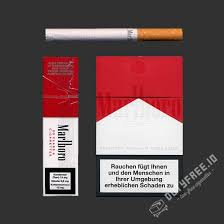marlboro: (97, 57, 181, 196)
